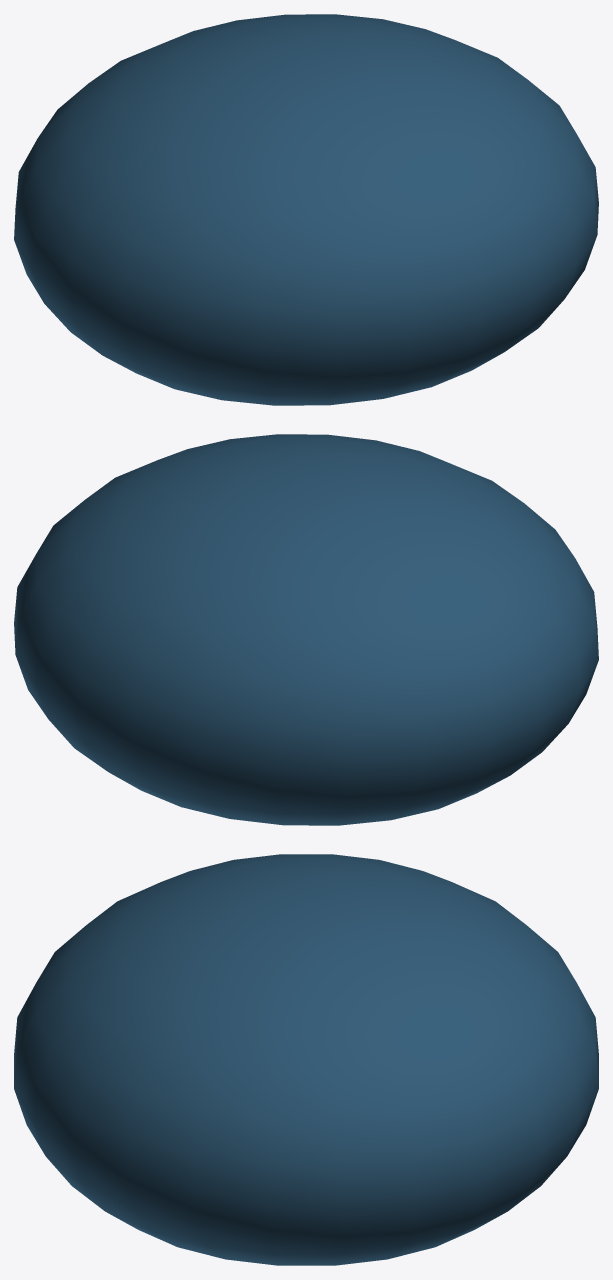
The model's file is newshm-115.glb.
The picture shows the model from 3 angles, top to bottom: view 1: azimuth 30°, elevation 25°; view 2: azimuth 150°, elevation 25°; view 3: azimuth 270°, elevation 25°; orthographic projection. The views are drawn at different scales.
Visible parts, largest first — view 1: newshm-115; view 2: newshm-115; view 3: newshm-115.
Part boxes in pixels (x1,y1,x2,y2): newshm-115: (14,14,598,405); newshm-115: (14,434,598,825); newshm-115: (14,854,598,1265).
Bounding box in the file's own units: 1.48 × 0.73 × 1.42.
